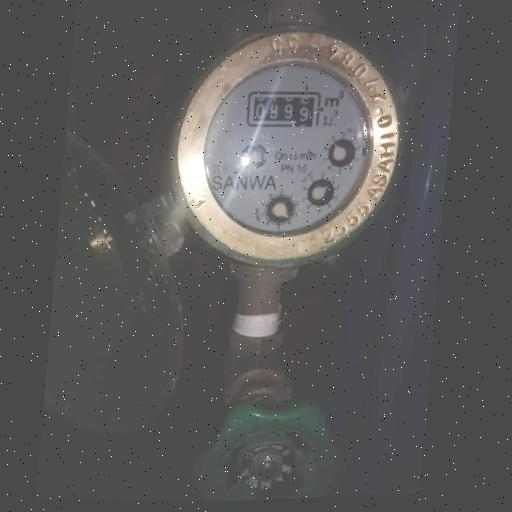0: (253, 95, 268, 121)
8: (267, 95, 282, 122)
9: (295, 96, 315, 128), (281, 96, 298, 122)
border_water_meter_number: (245, 87, 322, 131)
